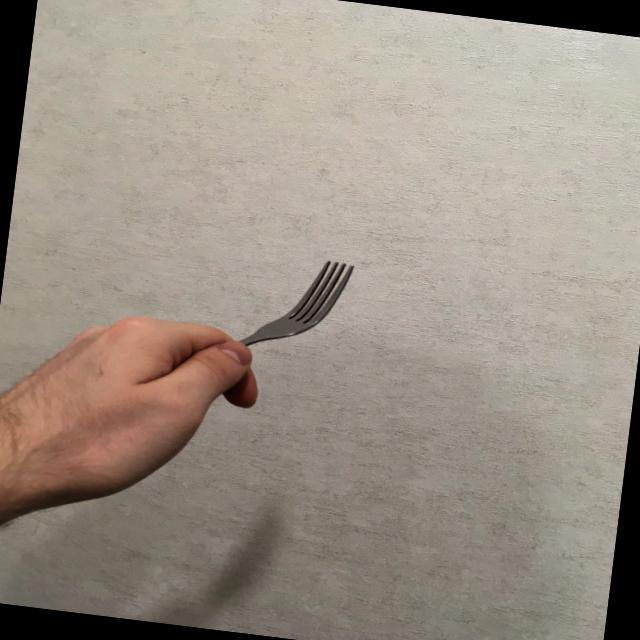fork: (131, 236, 355, 426)
